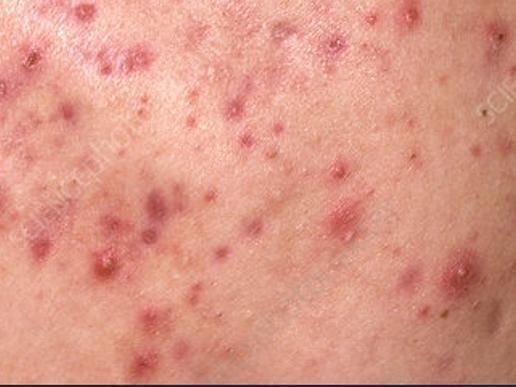acne_scars: (312, 187, 382, 265), (1, 37, 63, 123), (96, 41, 171, 85)
blackhead: (213, 308, 239, 331)
papular: (131, 178, 189, 259), (401, 5, 445, 51), (65, 1, 113, 35), (323, 158, 357, 188), (142, 308, 181, 330), (129, 351, 157, 379)
purulent: (83, 239, 133, 279), (451, 256, 488, 288)
